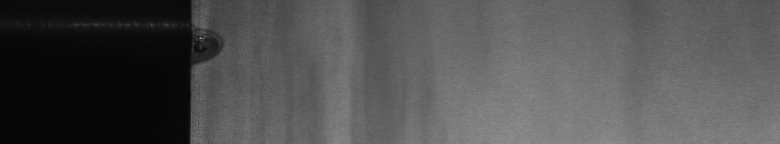hb: (204, 18, 229, 68)
